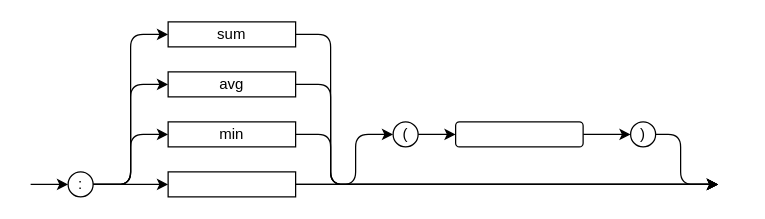
Image size: 765x219. Some labels were removed from this diagram. Each missing label, with the box of its shape:
expression: (454, 121, 583, 147)
max: (167, 171, 296, 197)
